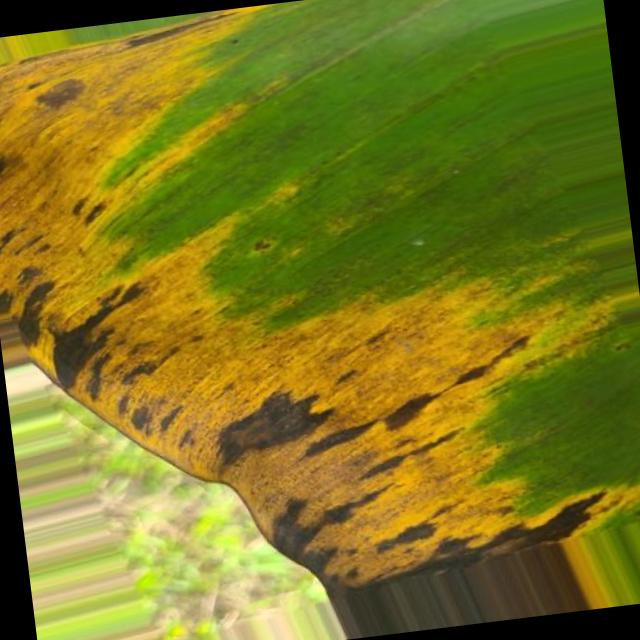Banana_Black_Sigatoka: (191, 325, 640, 607), (0, 16, 231, 402)
